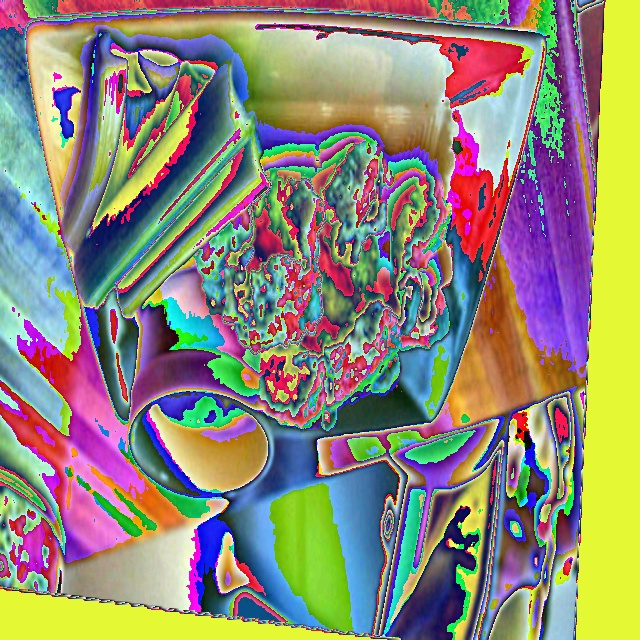background: (60, 30, 451, 438), (100, 44, 252, 436)
